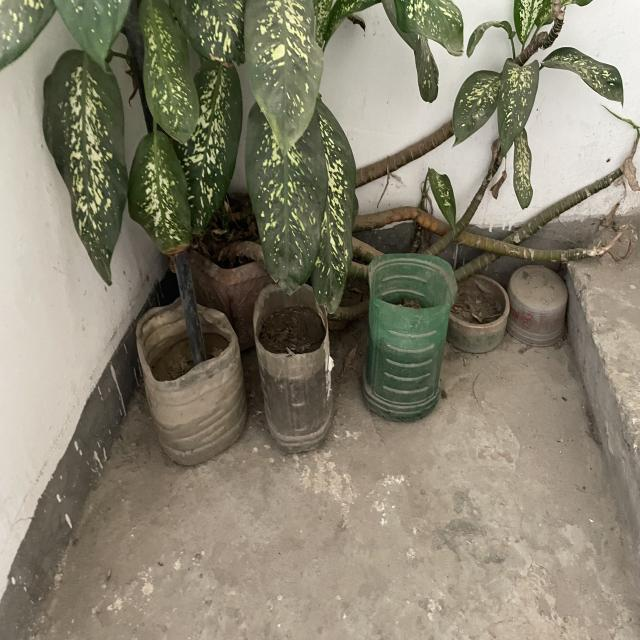Breeding Place: (136, 310, 245, 455), (250, 284, 334, 451), (368, 256, 444, 419), (452, 258, 506, 348)
